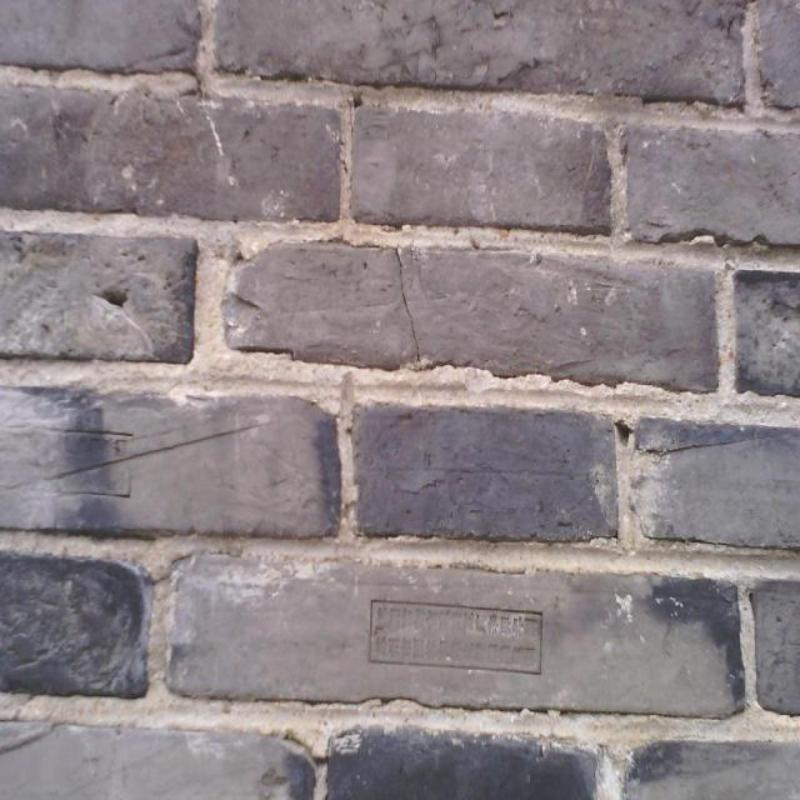pothole: (396, 249, 420, 361)
